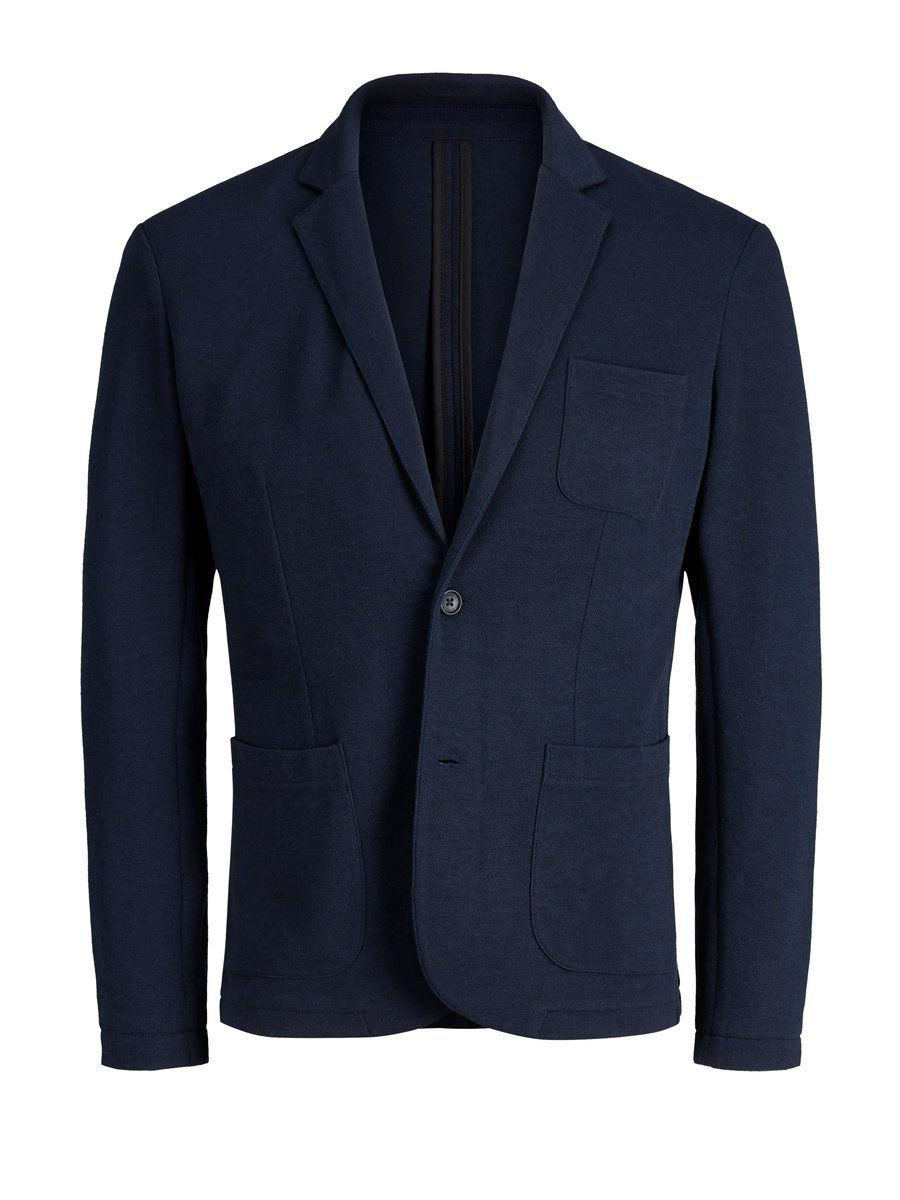teeshirt: (40, 65, 838, 1102)
